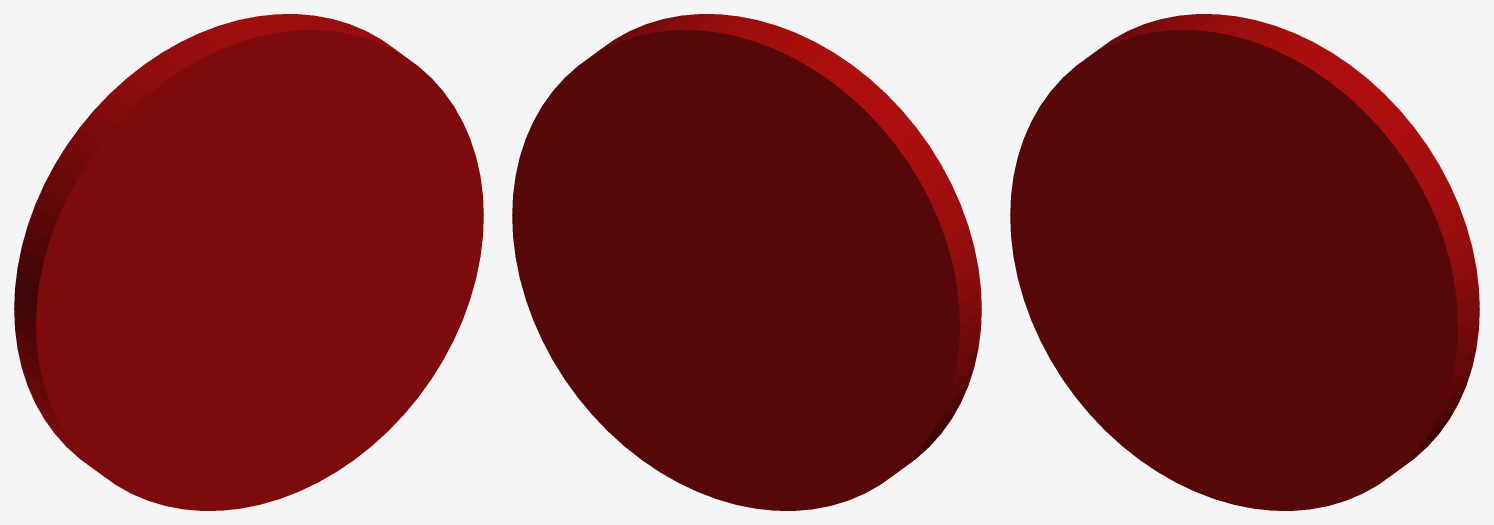
The model's file is HummingbirdProp_baseline.dae.
3 renders of one model, left to right at view 1: azimuth 30°, elevation 25°; view 2: azimuth 150°, elevation 25°; view 3: azimuth 330°, elevation 25°, orthographic.
Parts seen in each view (by area): view 1: HummingbirdProp; view 2: HummingbirdProp; view 3: HummingbirdProp.
Boxes of the visible parts, x1,y1,x2,y2 form: HummingbirdProp: (14,14,483,510); HummingbirdProp: (512,14,981,510); HummingbirdProp: (1010,14,1479,510).
Bounding box in the file's own units: 0.1778 × 0.015 × 0.1778.
